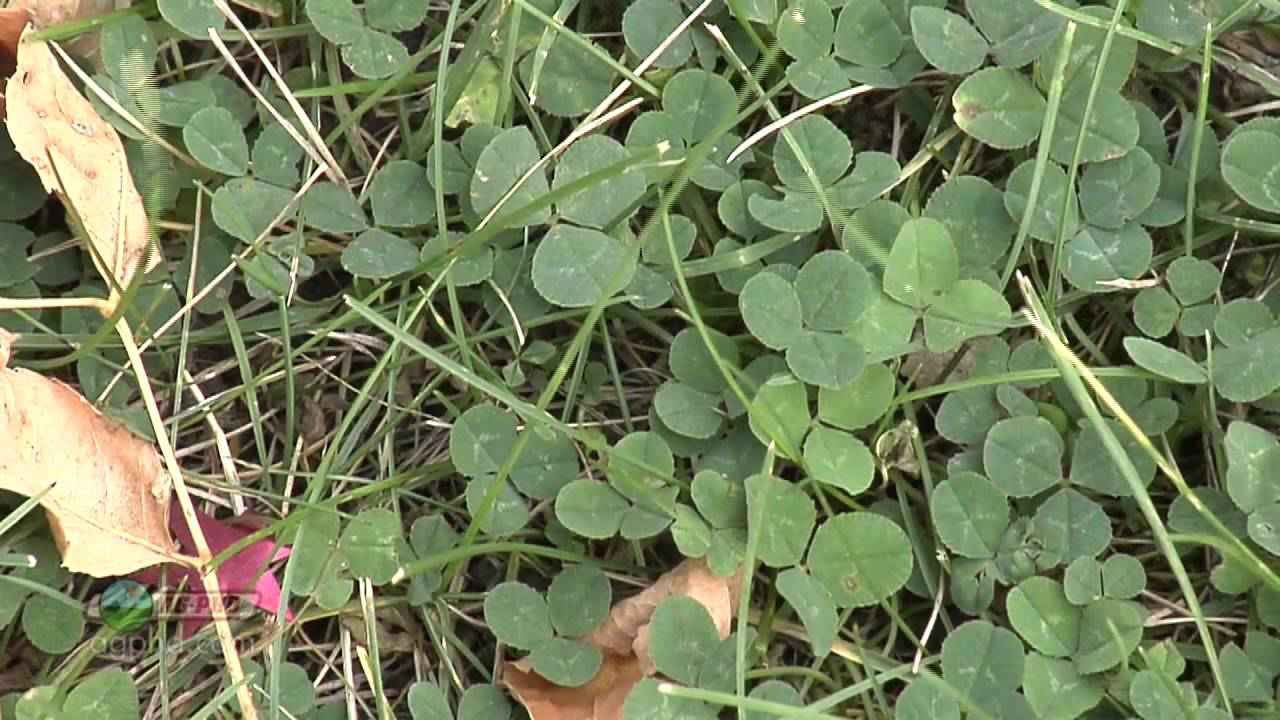clover: (465, 122, 644, 310), (744, 472, 914, 660), (952, 5, 1141, 164), (999, 142, 1164, 295), (733, 248, 880, 395), (744, 111, 902, 234), (447, 401, 579, 540), (179, 104, 305, 246), (624, 66, 758, 195), (296, 158, 436, 281), (483, 561, 614, 690), (893, 617, 1035, 720), (555, 428, 680, 540), (274, 496, 399, 608), (296, 2, 430, 77), (1130, 251, 1223, 342)
